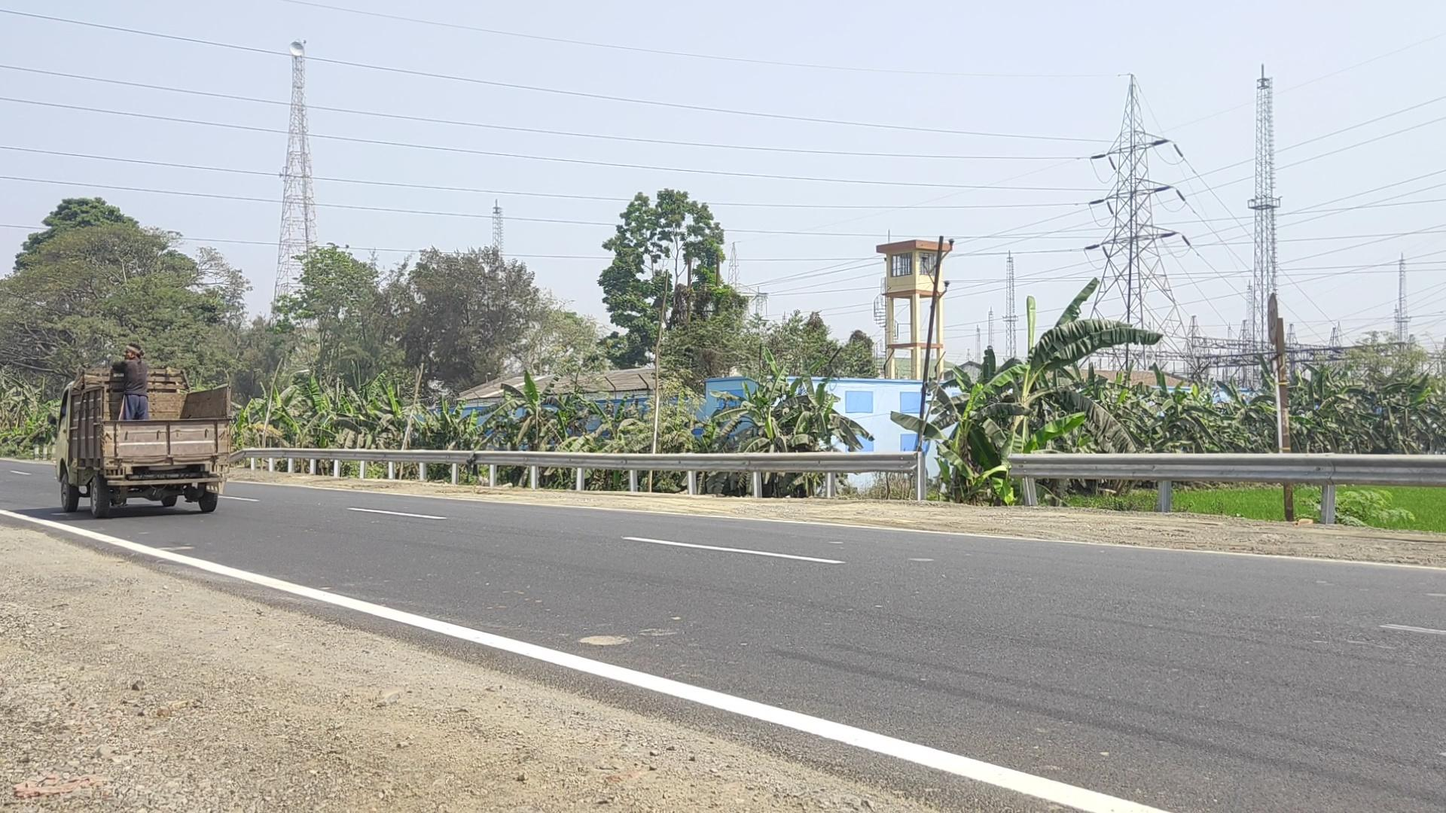van: (47, 343, 233, 519)
